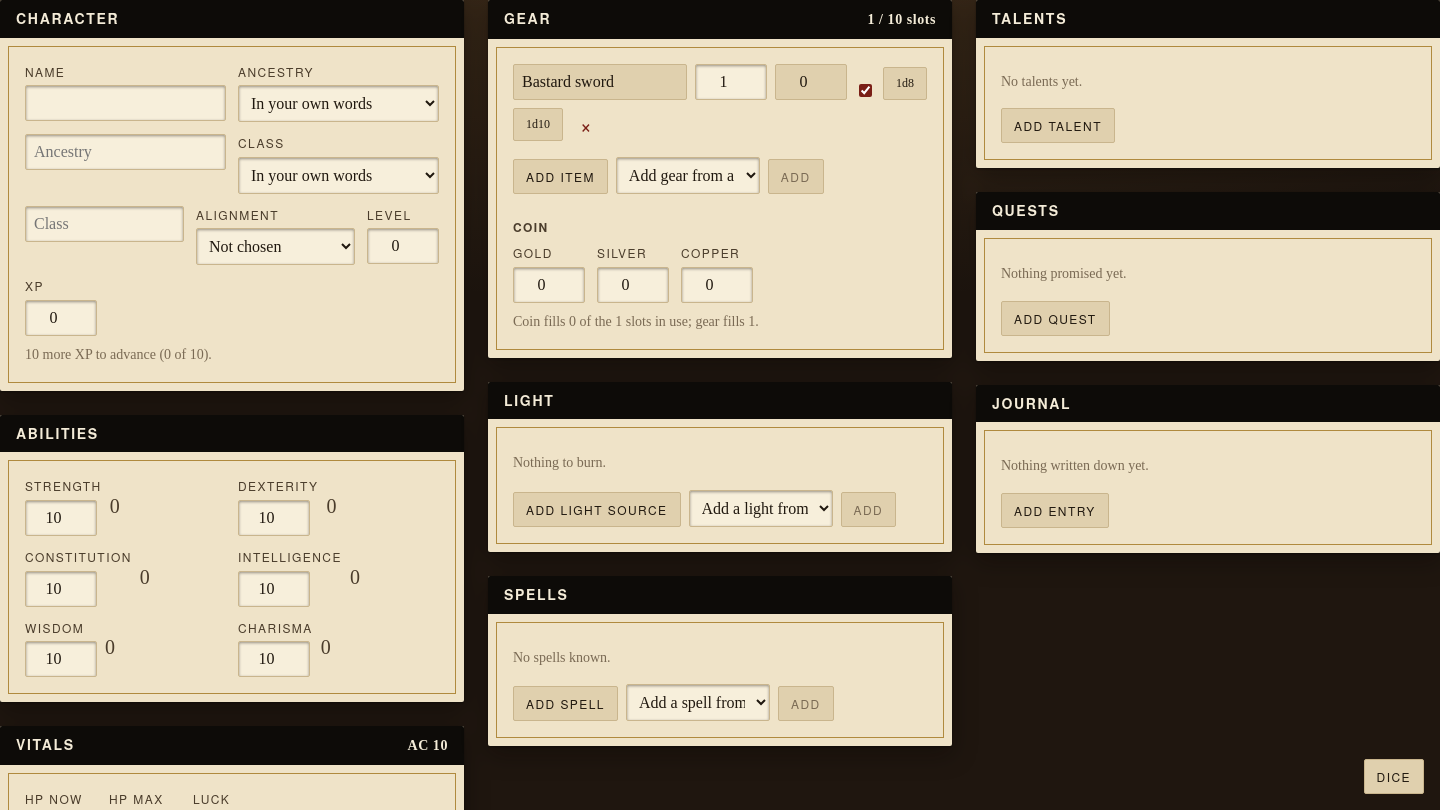
a weapon rolled from the sheet › offers a roll for each hand a versatile weapon can be used in
This screenshot has width=1440, height=810.
Click the button "1d10" at (538, 124), box [513,108,563,141]
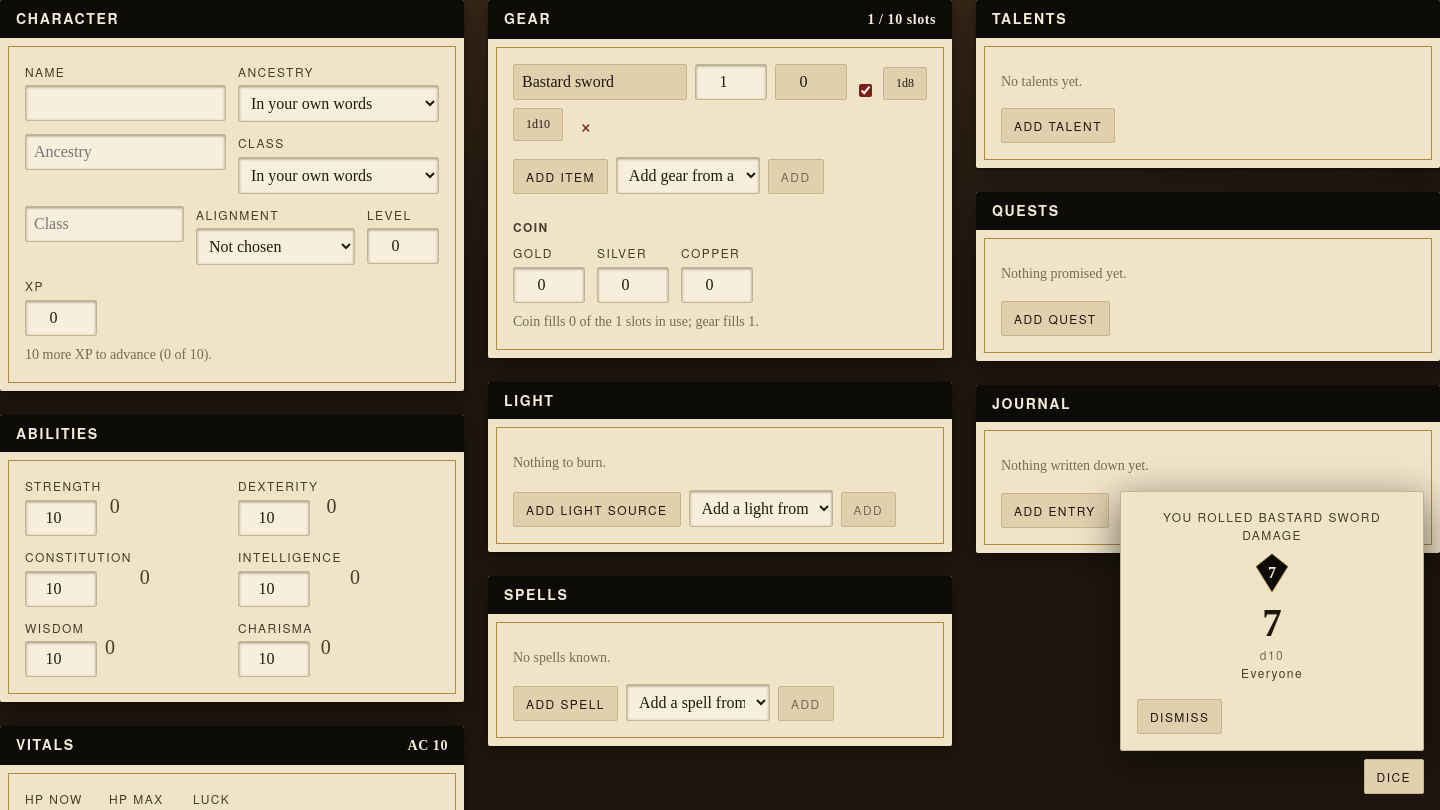
Now the text with class "dice__notation" reads "d10", box [1260,646,1284,663]
